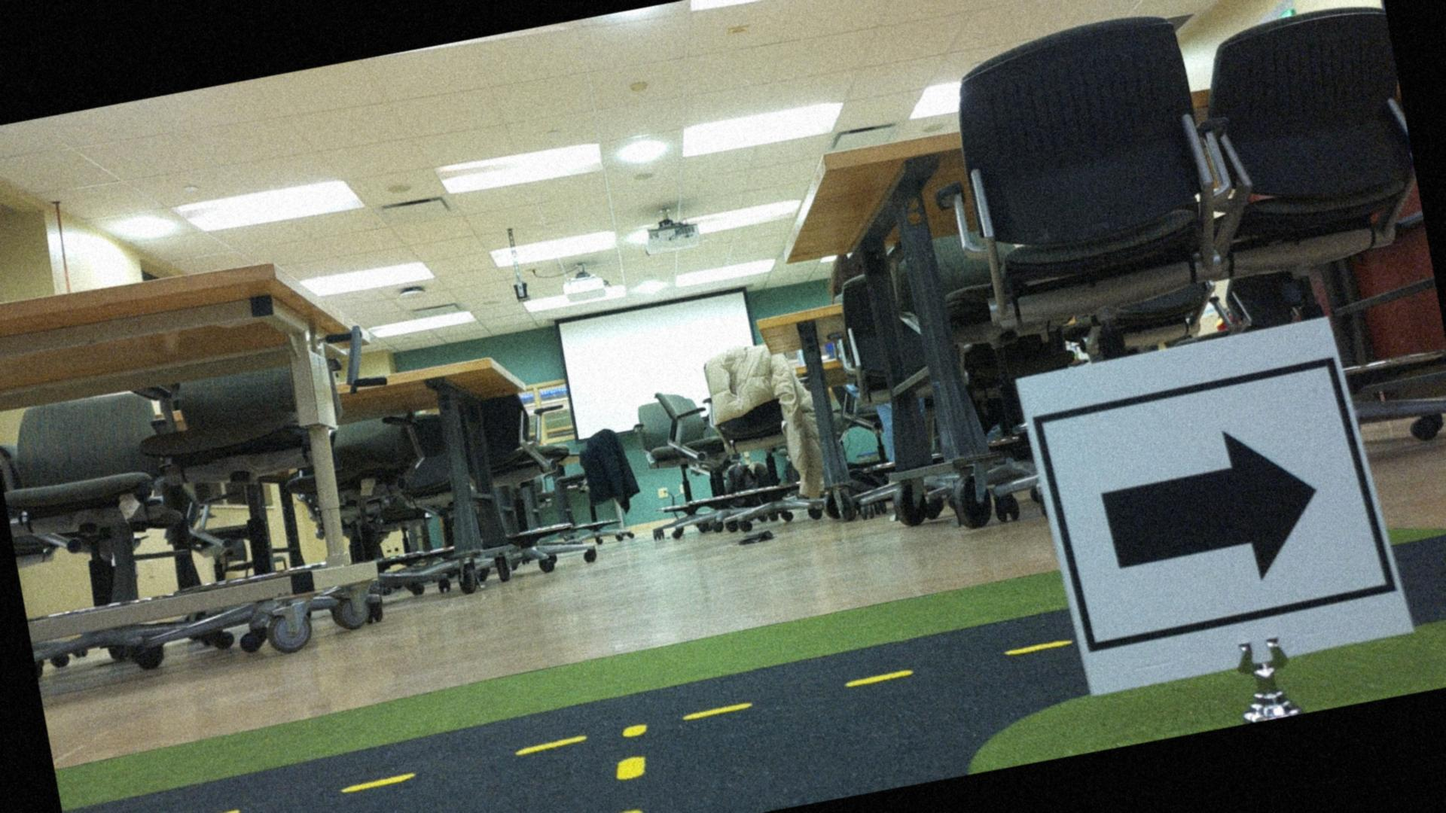turnleft: (1021, 321, 1392, 693)
yellowline: (158, 638, 1063, 812), (589, 752, 660, 812)
